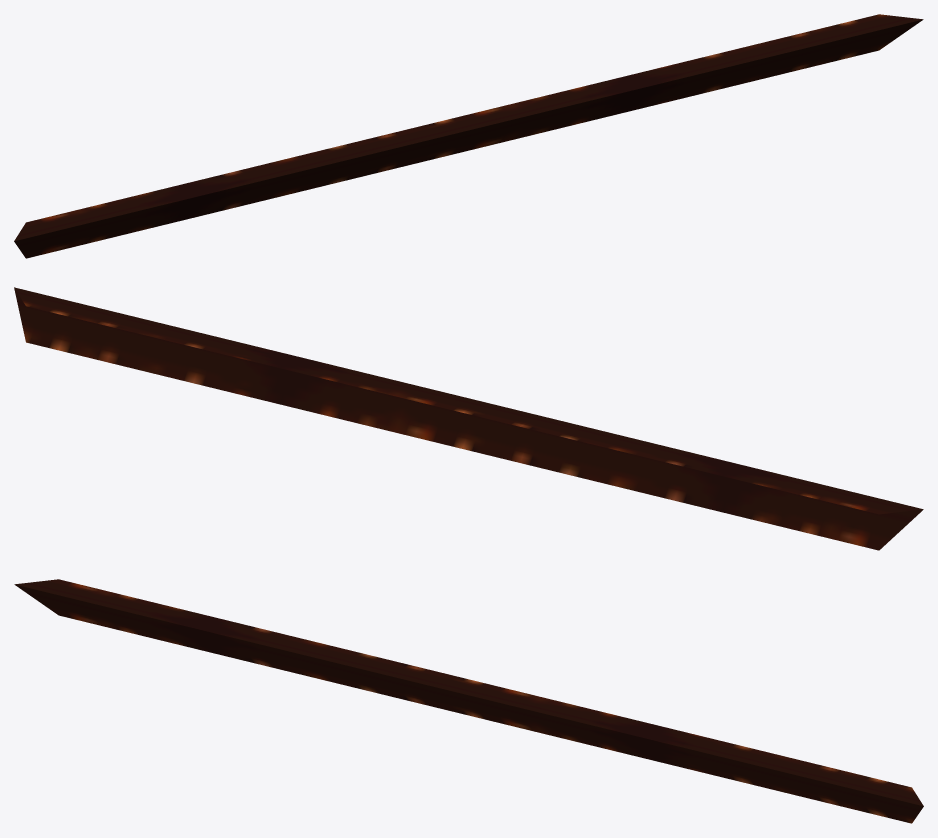
The model's file is W_A1_xffx_Verschoben_1649.glb.
The picture shows the model from 3 angles, top to bottom: view 1: azimuth 30°, elevation 25°; view 2: azimuth 150°, elevation 25°; view 3: azimuth 330°, elevation 25°; orthographic projection.
Parts seen in each view (by area): view 1: polySurfaceShape1022; view 2: polySurfaceShape1022; view 3: polySurfaceShape1022.
Boxes of the visible parts, x1=… form: polySurfaceShape1022: x1=14, y1=14, x2=923, y2=258; polySurfaceShape1022: x1=14, y1=287, x2=923, y2=550; polySurfaceShape1022: x1=14, y1=579, x2=923, y2=823.
Size of the model in its own units: 1.07 by 0.0406 by 0.0333.
Materials: 1 (1 with a texture image).
